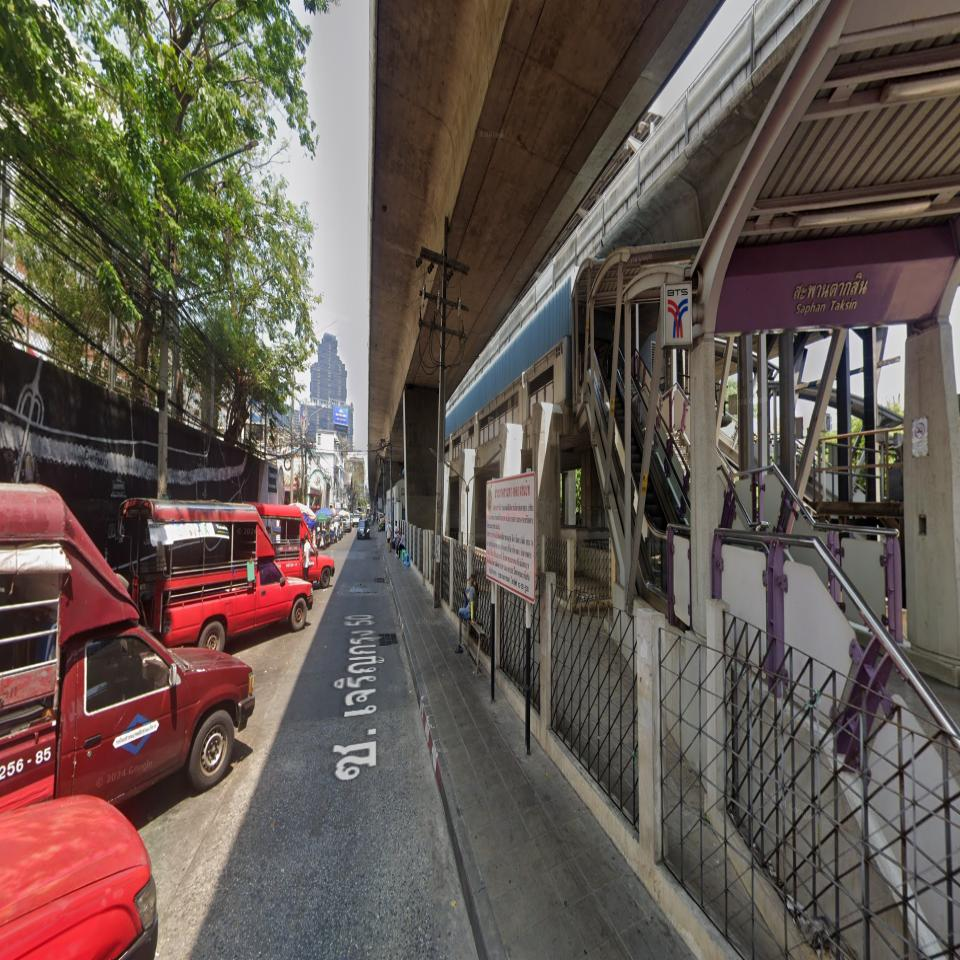signage: (664, 253, 957, 347), (715, 253, 957, 334)
